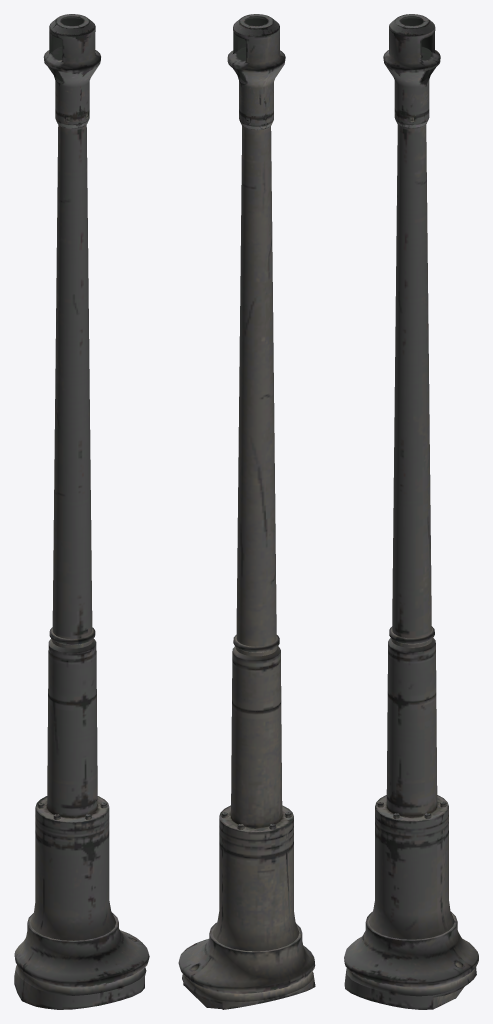
Rendered from Gun_01.glb.
3 views of the same model, side by side, from view 1: azimuth 30°, elevation 25°; view 2: azimuth 210°, elevation 25°; view 3: azimuth 330°, elevation 25° (orthographic).
Parts seen in each view (by area): view 1: set_0_group_0; view 2: set_0_group_0; view 3: set_0_group_0.
Part boxes in pixels (<box>): set_0_group_0: <box>14,14,149,1009</box>; set_0_group_0: <box>178,14,315,1009</box>; set_0_group_0: <box>344,14,478,1009</box>.
Bounding box in the file's own units: 0.6288 × 5.02 × 0.5927.
Materials: 1 (1 with a texture image).
